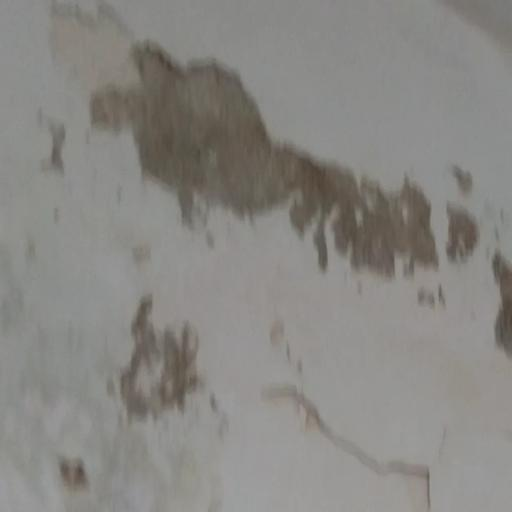peeling: (43, 6, 485, 283), (259, 295, 478, 512), (96, 270, 245, 424), (476, 238, 512, 361), (44, 451, 110, 503), (412, 277, 470, 326)
